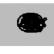correct: (11, 10, 53, 37)
